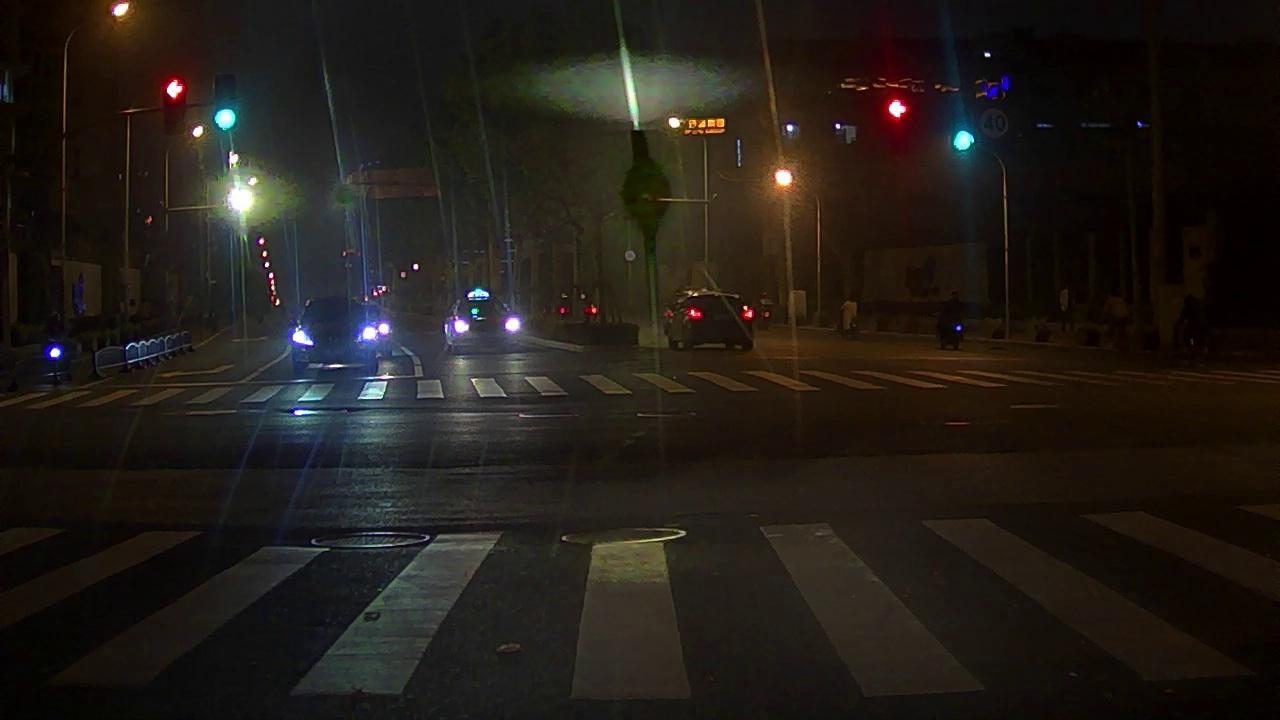traffic_light: (164, 78, 186, 134), (214, 75, 236, 131), (887, 97, 908, 152), (954, 109, 974, 163)
